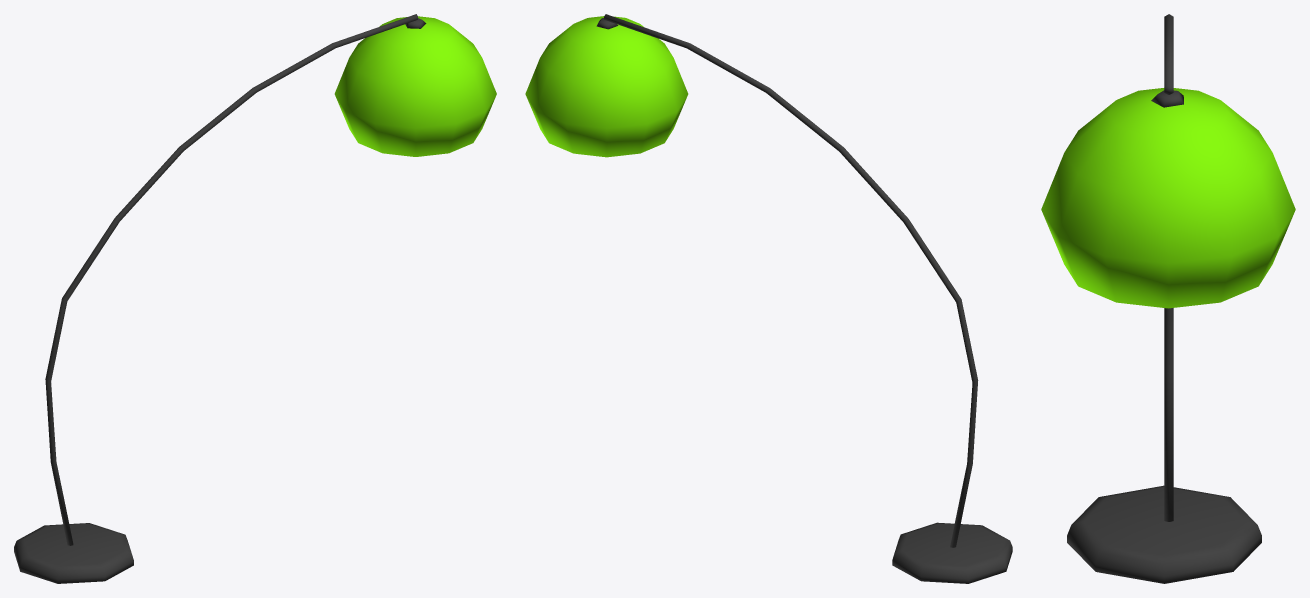
File: Arc_Lamp_D.FBX
The picture shows the model from 3 angles, left to right: view 1: azimuth 30°, elevation 25°; view 2: azimuth 150°, elevation 25°; view 3: azimuth 270°, elevation 25°; orthographic projection. The views are drawn at different scales.
Parts seen in each view (by area): view 1: Arc_Lamp; view 2: Arc_Lamp; view 3: Arc_Lamp.
Part boxes in pixels (box(x1,y1,x2,y2)): Arc_Lamp: box(14, 14, 496, 583); Arc_Lamp: box(525, 14, 1012, 583); Arc_Lamp: box(1041, 14, 1295, 583).
Bounding box in the file's own units: 316 × 297 × 95.22.
